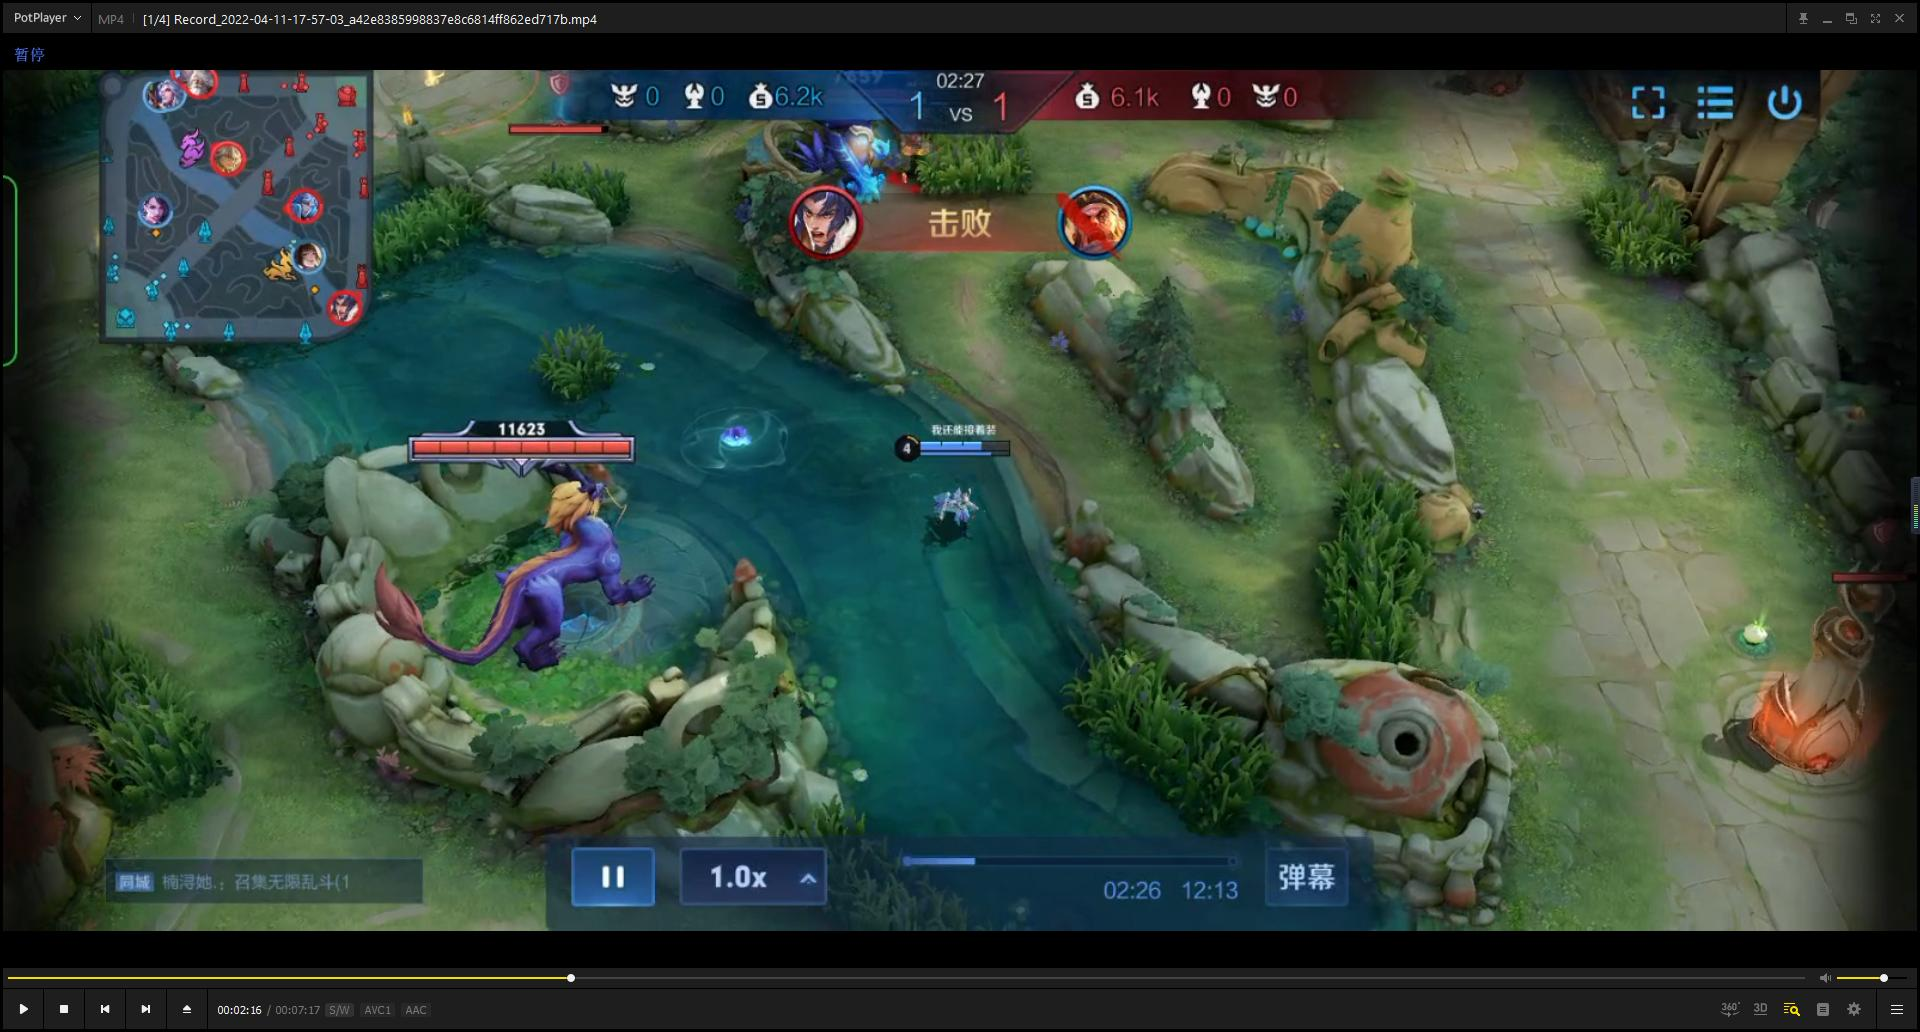BaoJun: (358, 404, 670, 681)
Buff: (787, 111, 928, 196)
Hero: (906, 470, 996, 540)
Tower: (1748, 555, 1892, 799)
